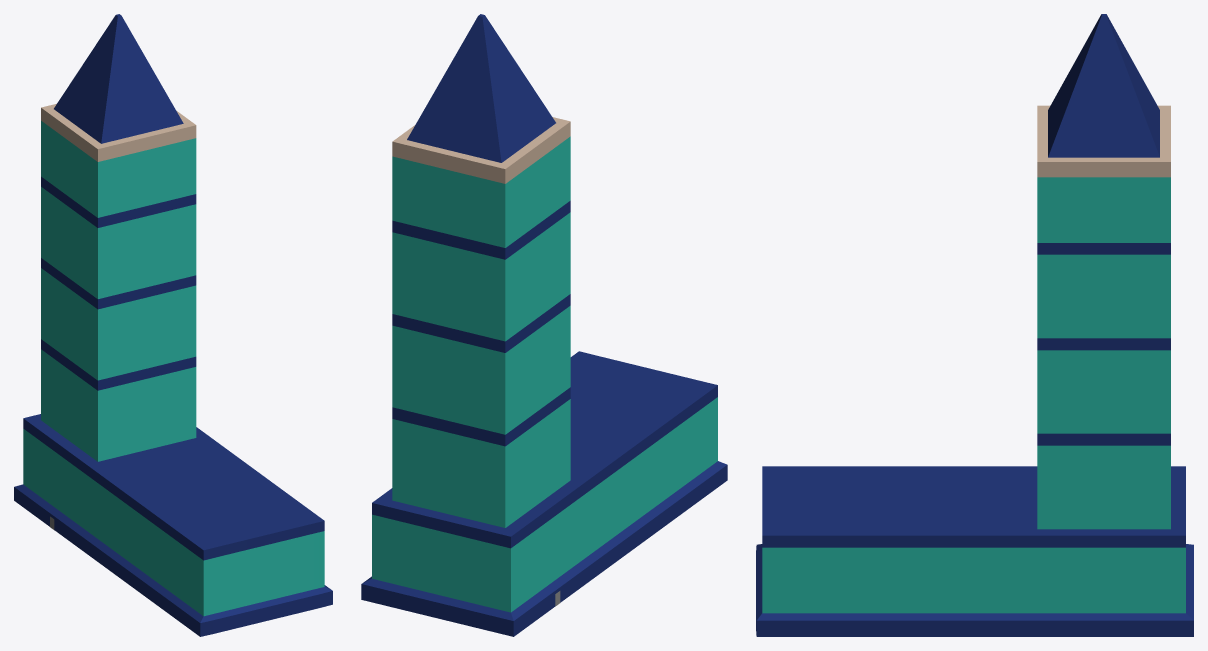
Rendered from Skyscraper6.gltf.
3 renders of one model, left to right at view 1: azimuth 30°, elevation 25°; view 2: azimuth 150°, elevation 25°; view 3: azimuth 270°, elevation 25°, orthographic. The views are drawn at different scales.
Parts seen in each view (by area): view 1: Skyscraper6; view 2: Skyscraper6; view 3: Skyscraper6.
Part boxes in pixels (left/top/right/bottom): Skyscraper6: left=14, top=14, right=332, bottom=636; Skyscraper6: left=361, top=14, right=727, bottom=636; Skyscraper6: left=756, top=14, right=1193, bottom=636.
Bounding box in the file's own units: 2.7 × 9.64 × 6.56.
